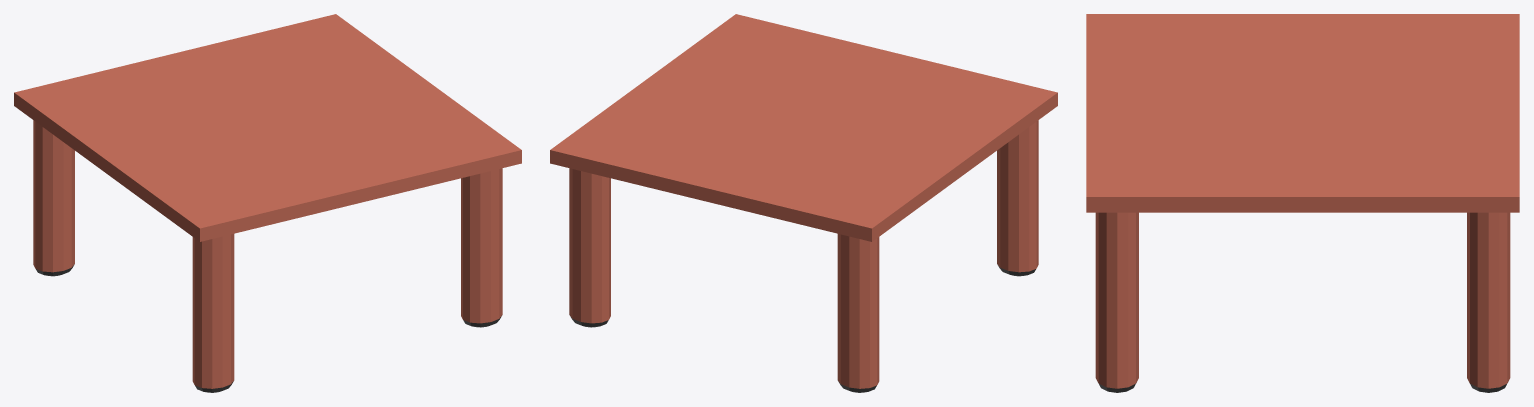
File: Table.fbx
The picture shows the model from 3 angles, left to right: view 1: azimuth 30°, elevation 25°; view 2: azimuth 150°, elevation 25°; view 3: azimuth 270°, elevation 25°; orthographic projection. The views are drawn at different scales.
Parts seen in each view (by area): view 1: Cube; view 2: Cube; view 3: Cube.
Boxes of the visible parts, <box> form: Cube: <box>14,14,521,392</box>; Cube: <box>550,14,1057,392</box>; Cube: <box>1086,14,1519,392</box>.
Bounding box in the file's own units: 400 × 211 × 400.
